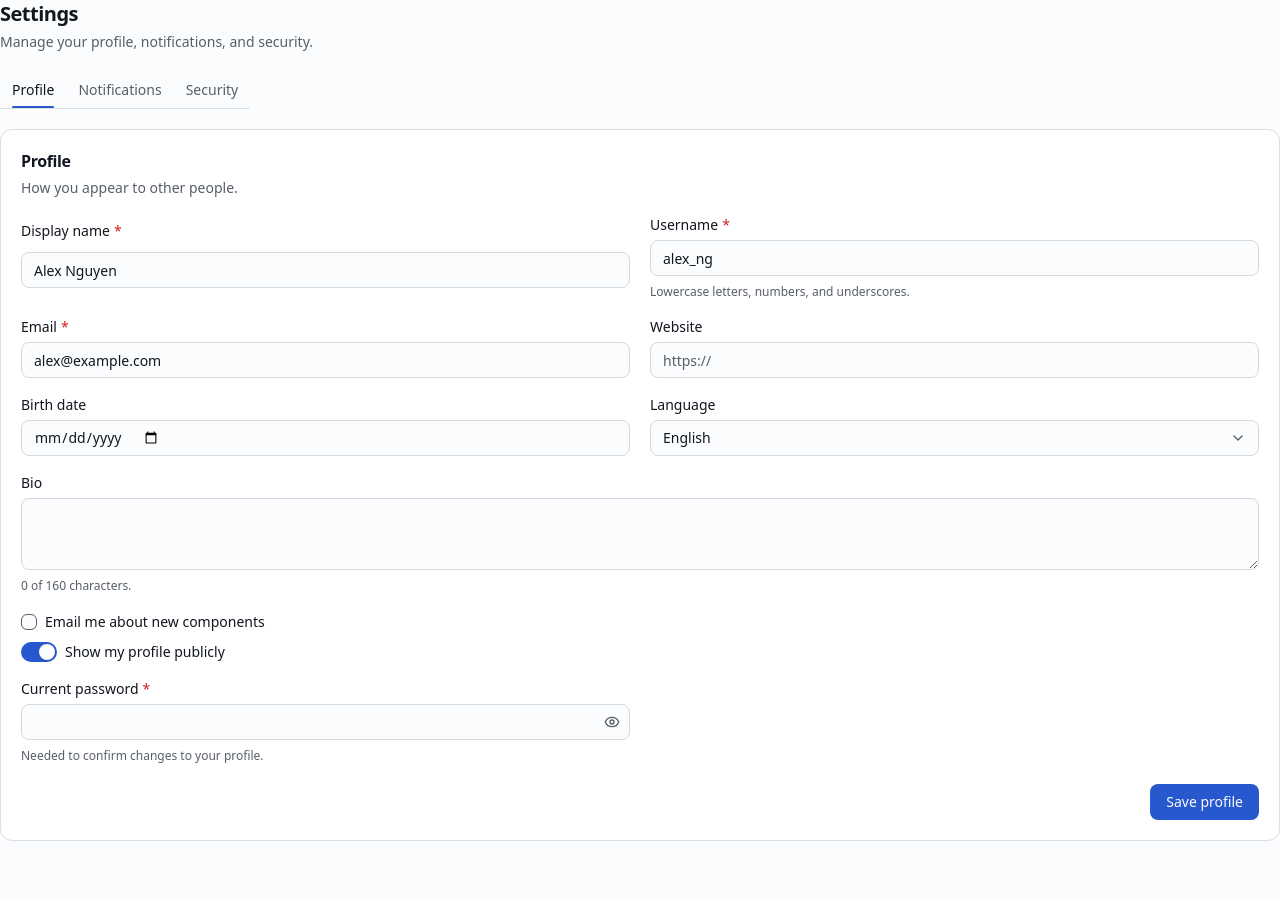
UserProfileSettings › delete account › shows a failure inside the dialog
This screenshot has width=1280, height=900.
Click the tab "Security": click(212, 90) [174, 72, 250, 108]
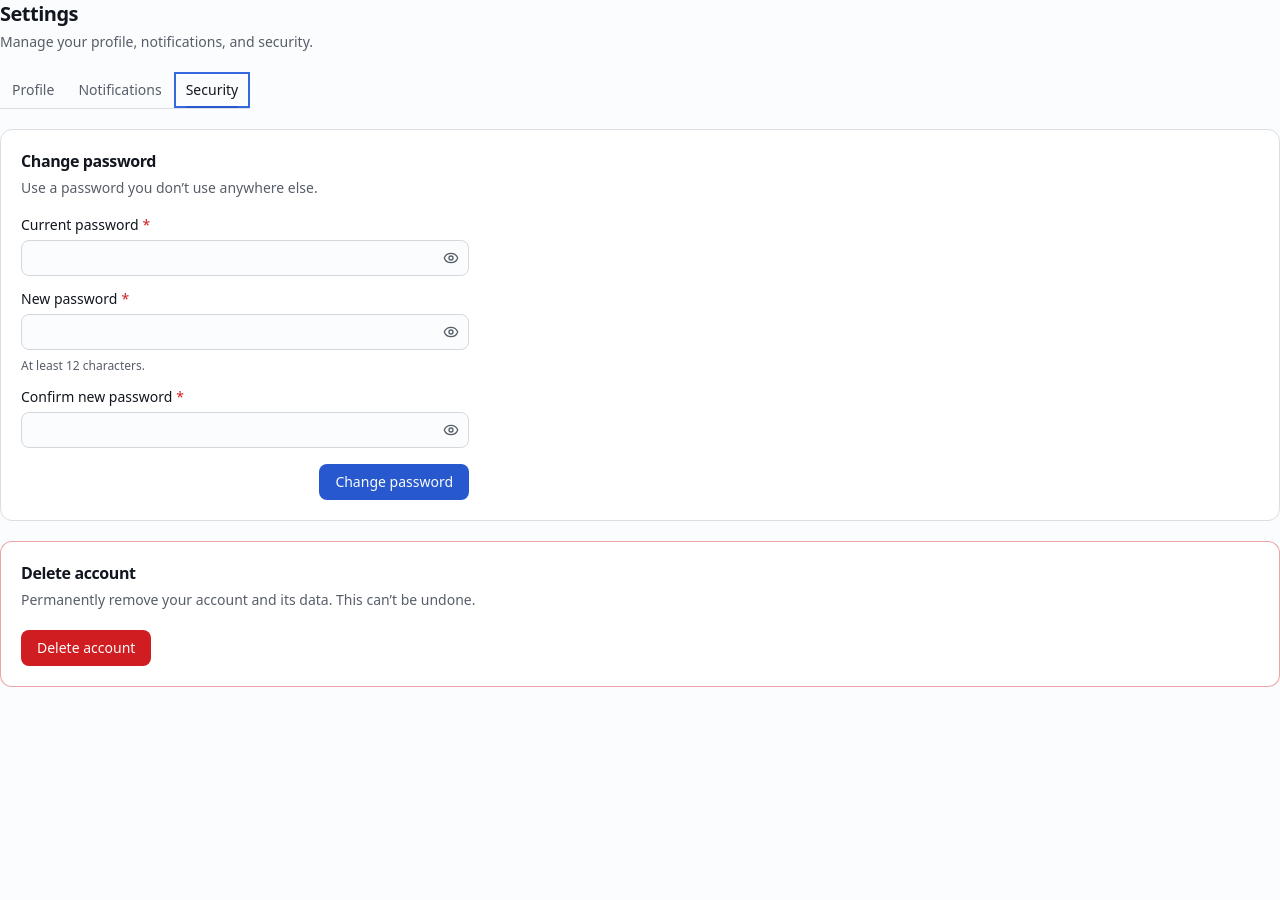
Click the button "Delete account": click(86, 648) [21, 630, 151, 666]
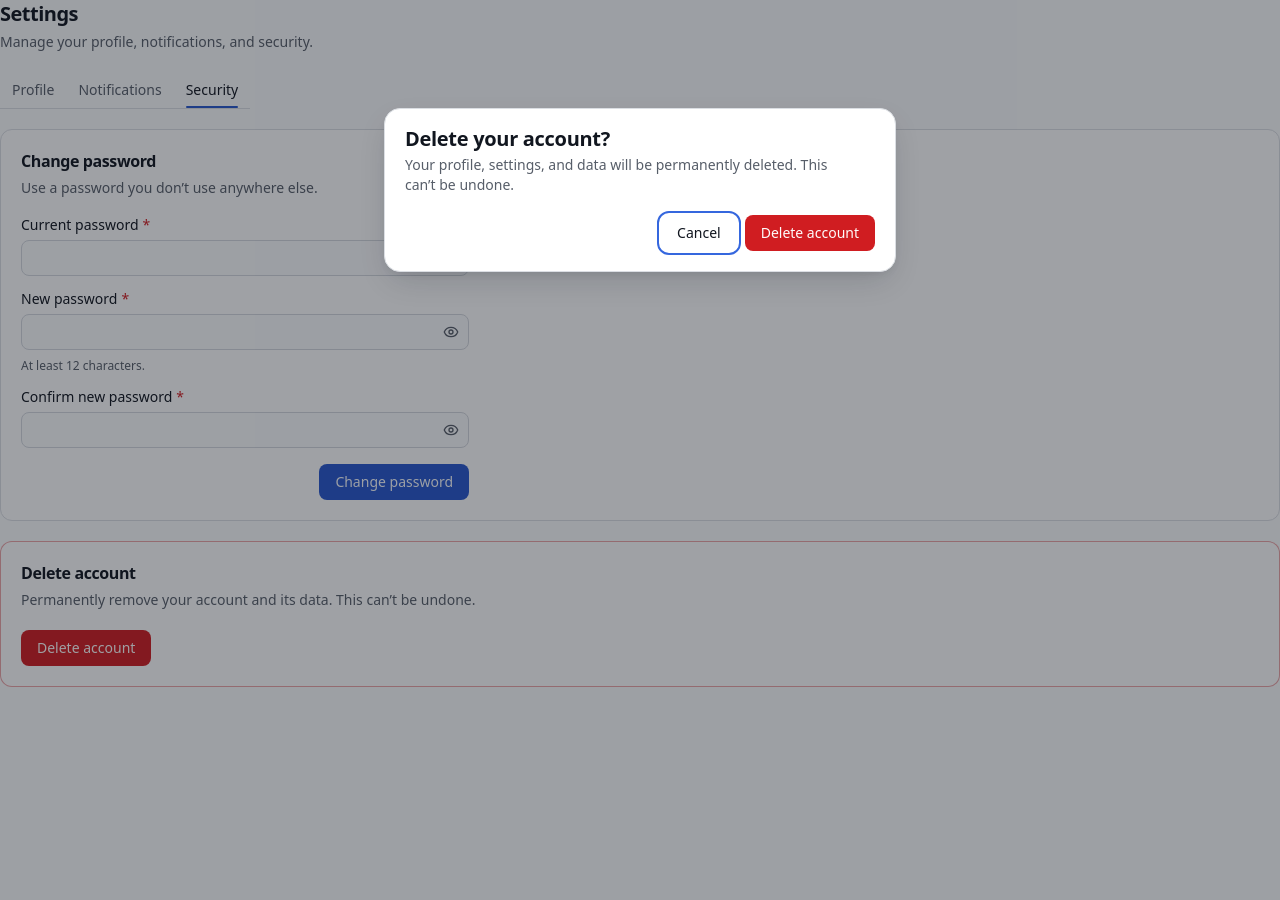
Click the button "Delete account": click(810, 233) [745, 215, 875, 251]
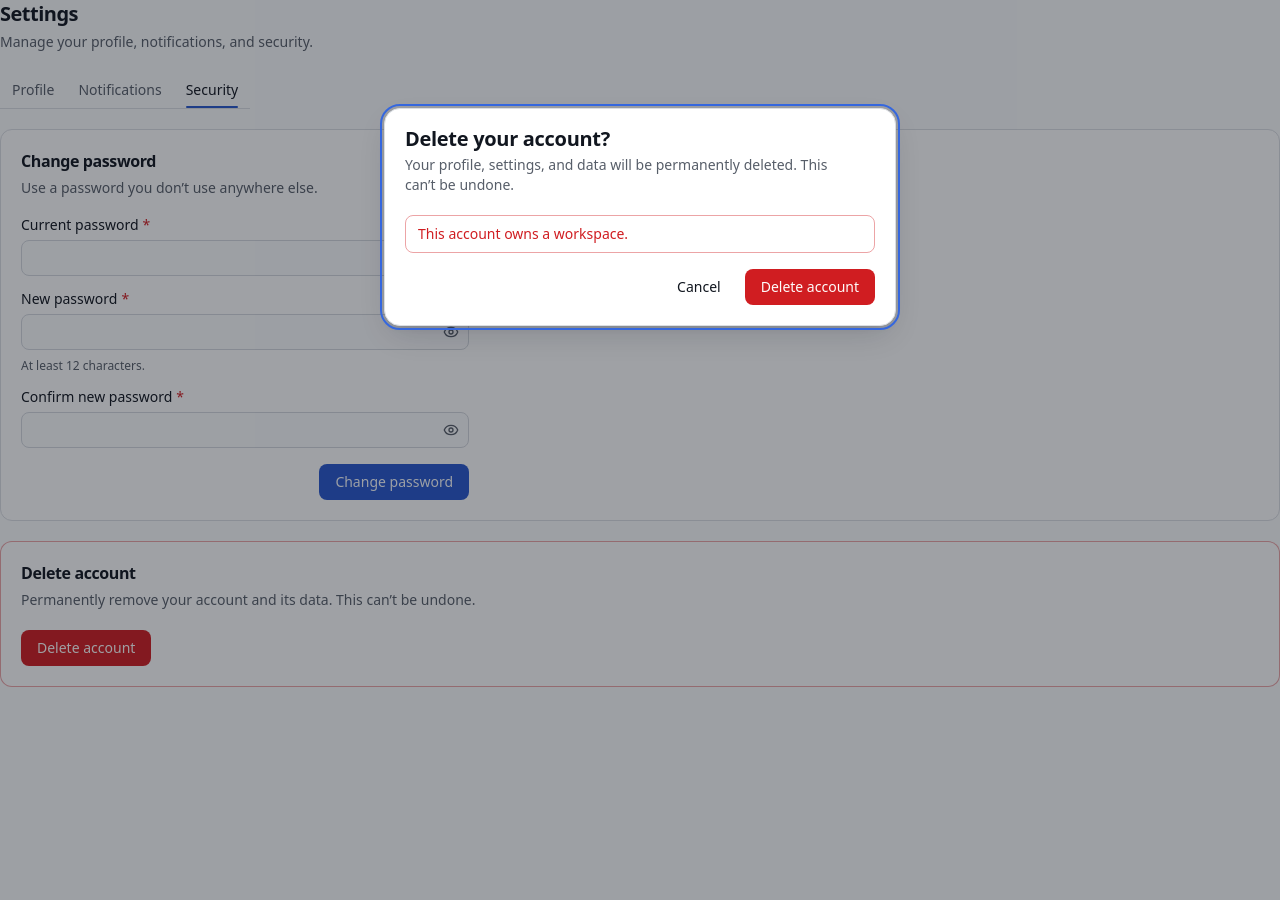
expect the message reads "This account owns a workspace.": met, box [418, 224, 628, 243]
